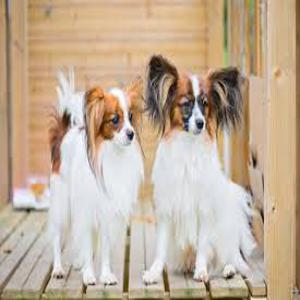yell: (144, 53, 257, 284)
